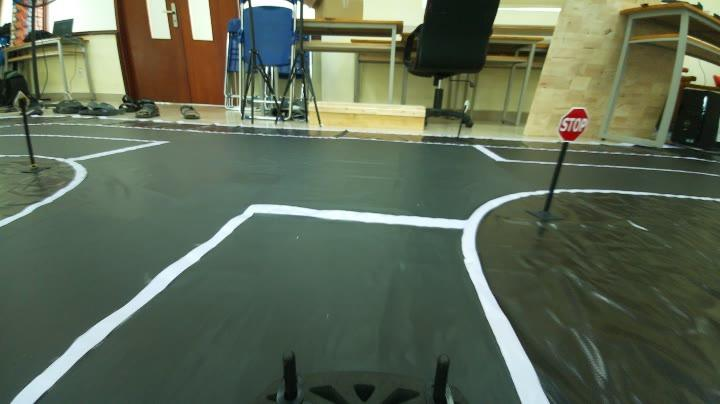stop: (552, 109, 596, 142)
